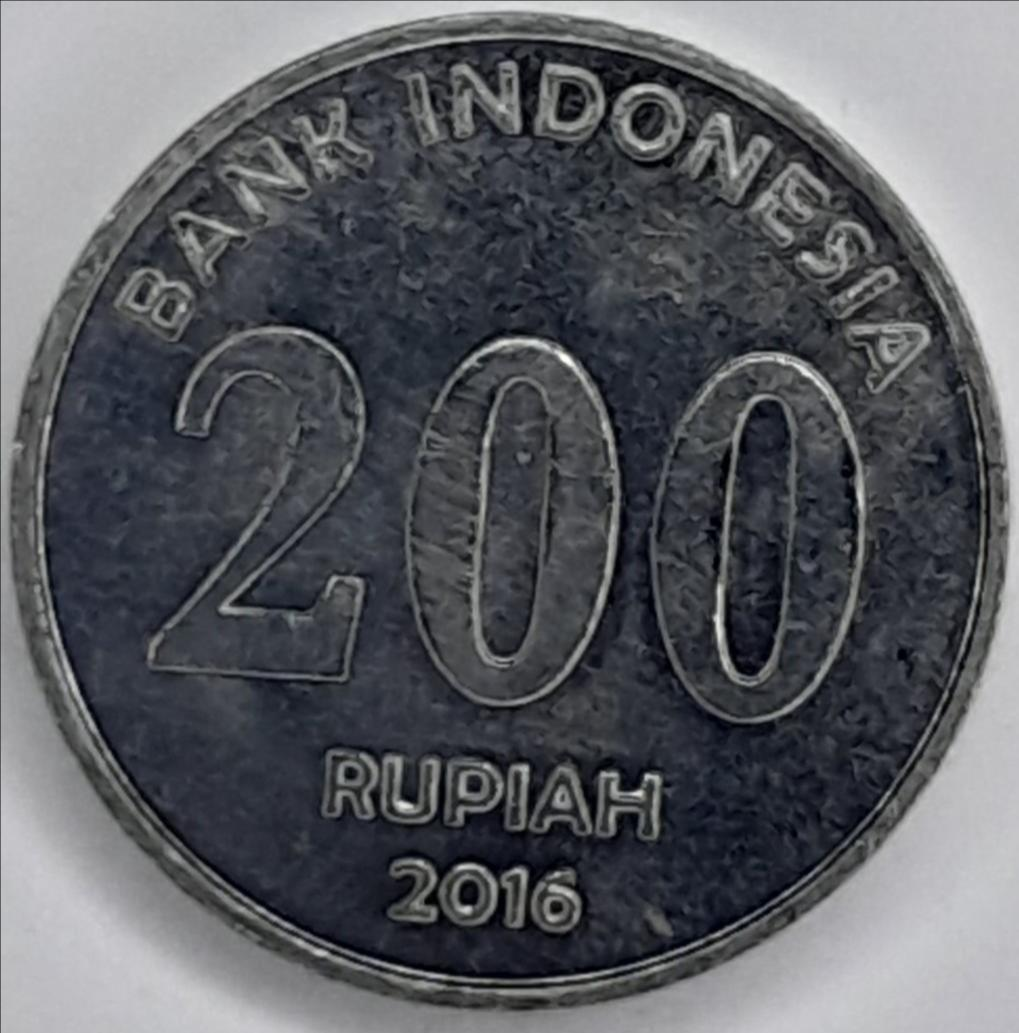coin_200_e2016: (0, 18, 1019, 1033)
